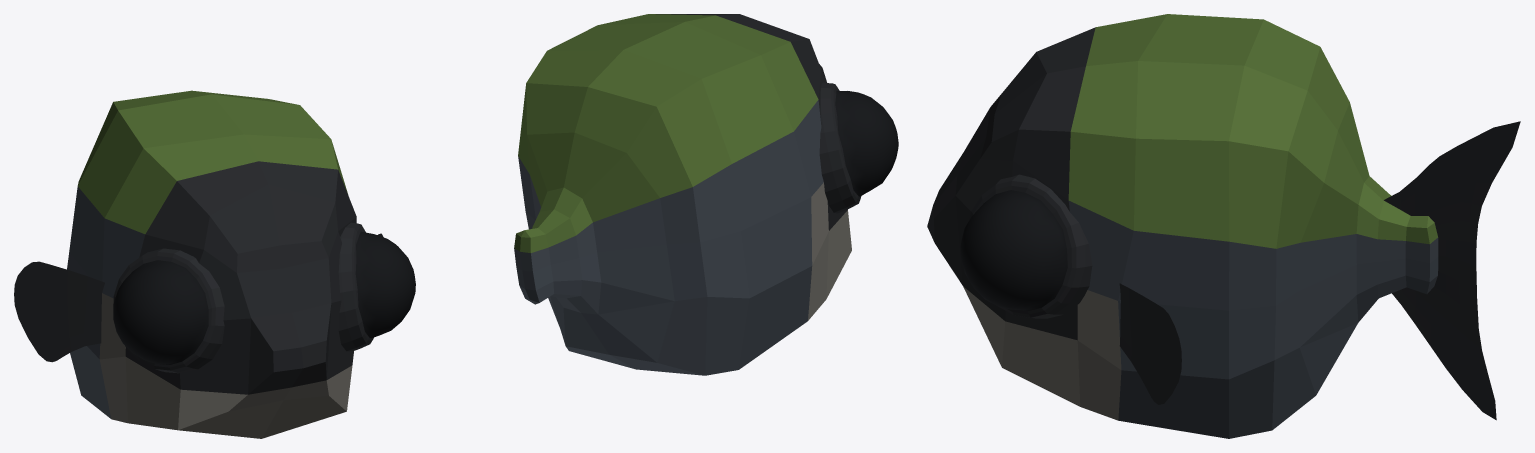
Rendered from cc0-tang-lod0.glb.
The picture shows the model from 3 angles, left to right: view 1: azimuth 30°, elevation 25°; view 2: azimuth 150°, elevation 25°; view 3: azimuth 270°, elevation 25°; orthographic projection. The views are drawn at different scales.
Visible parts, largest first — view 1: part_0; view 2: part_0; view 3: part_0.
Boxes of the visible parts, x1,y1,x2,y2 form: part_0: (14,90,415,438); part_0: (514,14,898,375); part_0: (927,14,1520,438).
Bounding box in the file's own units: 3.2 × 2.69 × 4.14.
